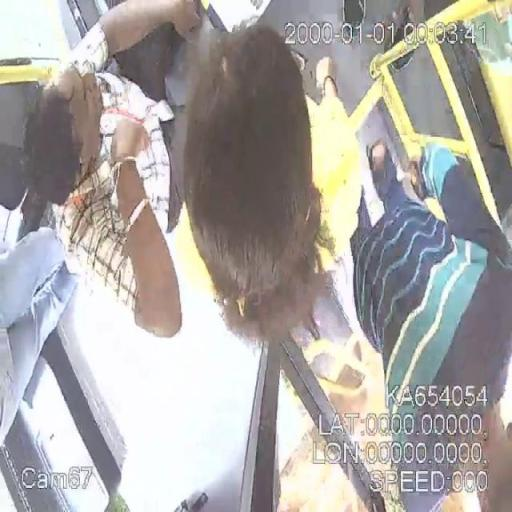persona: (18, 3, 208, 336), (182, 0, 363, 344), (353, 143, 512, 512)
